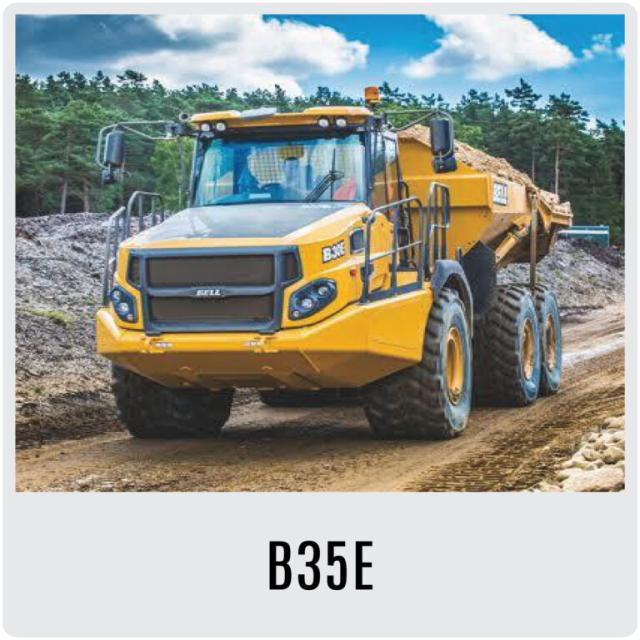dump_truck: (81, 98, 574, 446)
